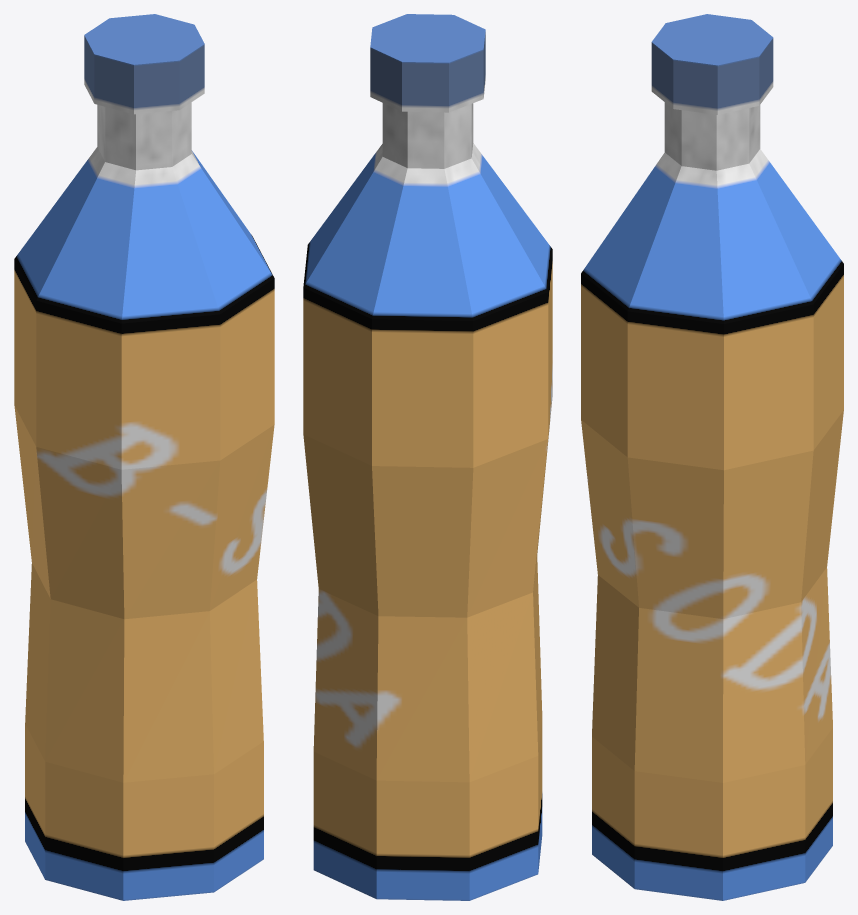
The model's file is bottle 5.FBX.
The picture shows the model from 3 angles, left to right: view 1: azimuth 30°, elevation 25°; view 2: azimuth 150°, elevation 25°; view 3: azimuth 270°, elevation 25°; orthographic projection.
Visible parts, largest first — view 1: 礦泉水022; view 2: 礦泉水022; view 3: 礦泉水022.
Boxes of the visible parts, left/top/right/bottom form: 礦泉水022: left=14, top=14, right=274, bottom=900; 礦泉水022: left=303, top=14, right=552, bottom=900; 礦泉水022: left=581, top=14, right=843, bottom=900.
Bounding box in the file's own units: 38.19 × 130 × 38.19.
1 material, 1 textured.
